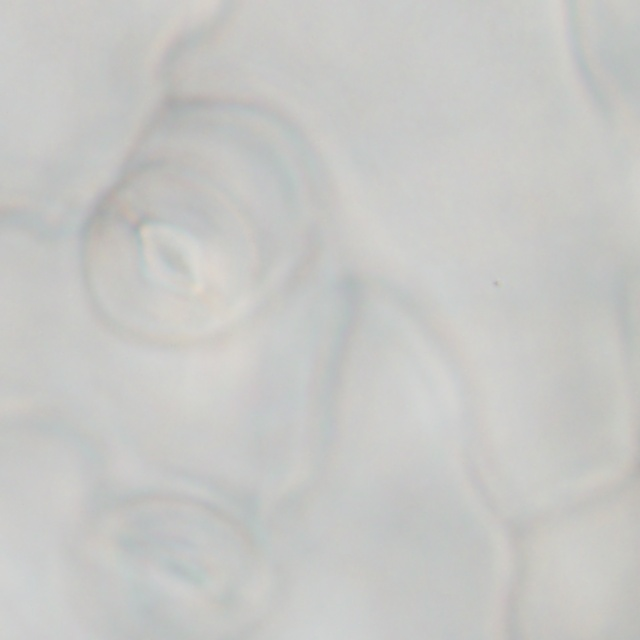center: (124, 538, 225, 606), (139, 220, 204, 296)
stomata-huw1: (83, 166, 260, 341), (81, 491, 272, 639)
